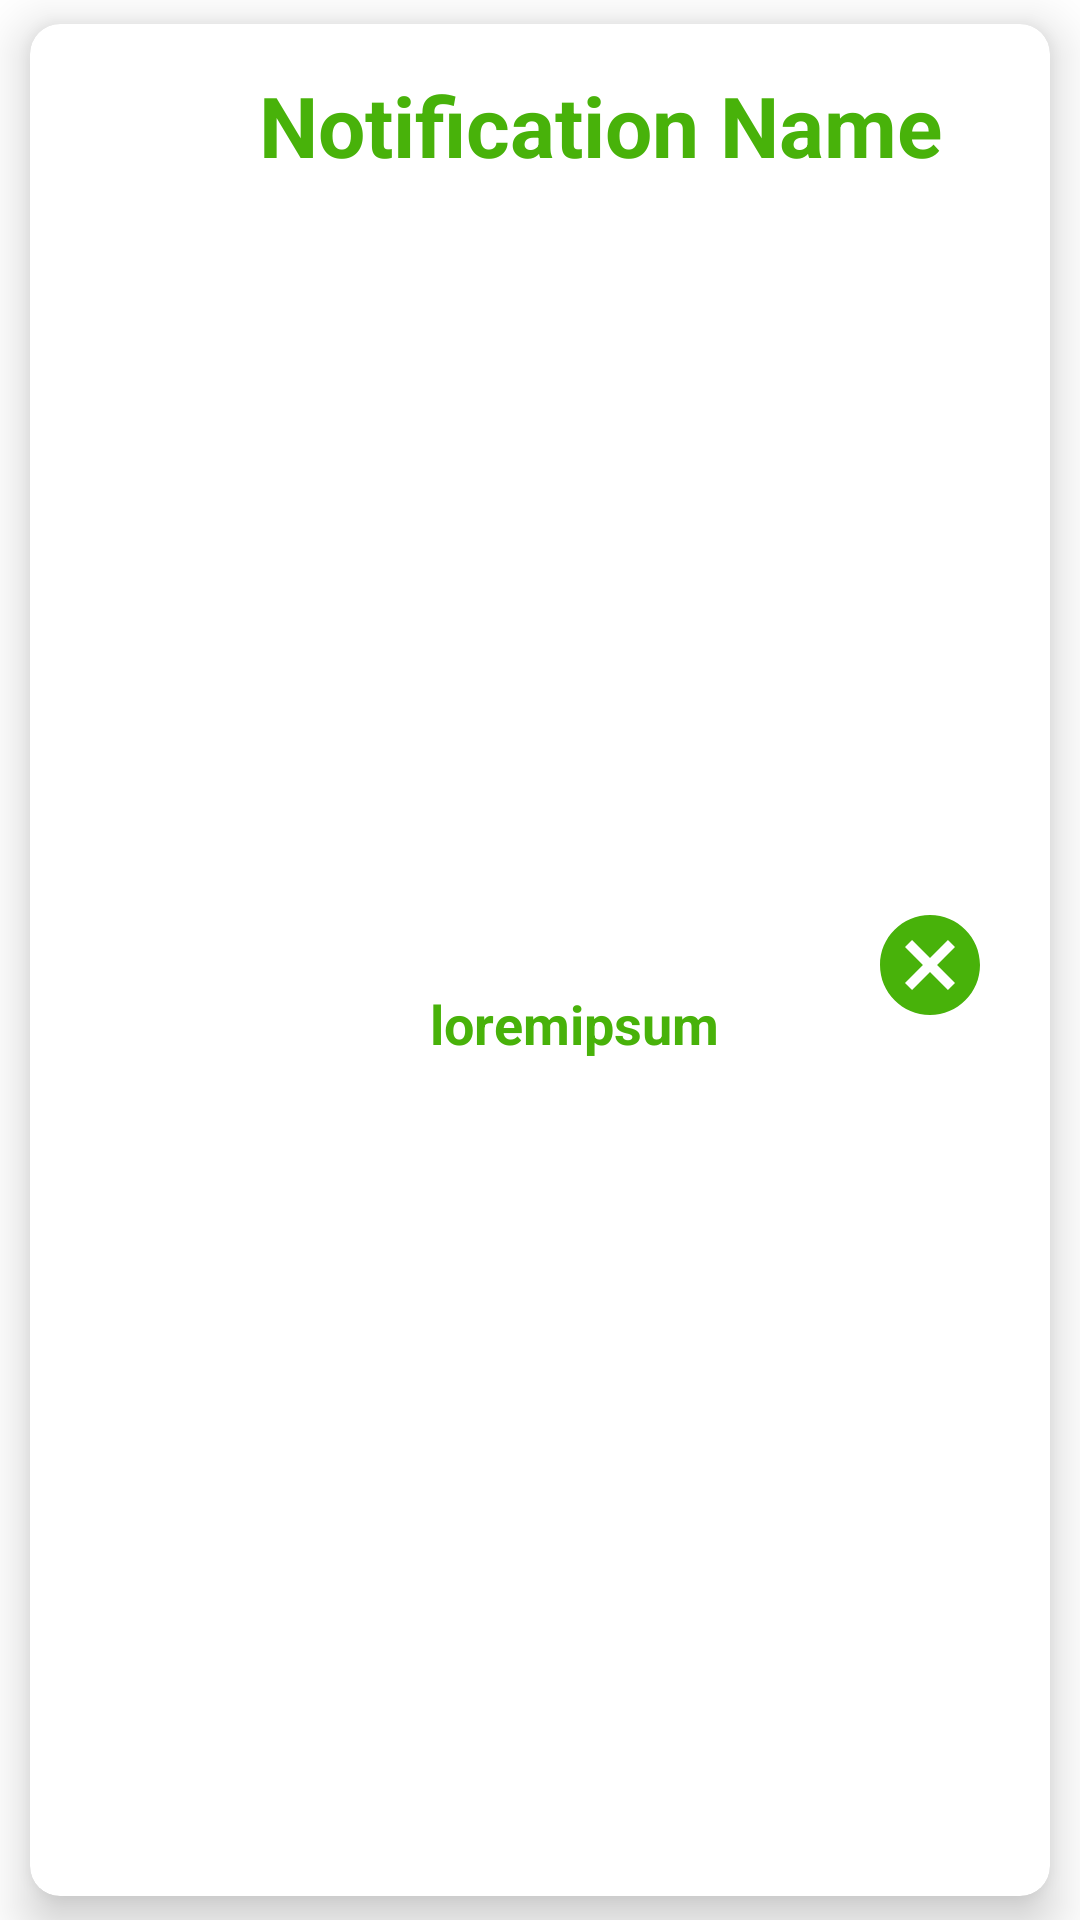

Icons on this 1080×1920 Android screen, each with its box as (x1, y1, x2, y2):
delete: (880, 915, 980, 1015)
